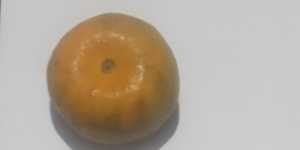BAD: (46, 11, 181, 145)
